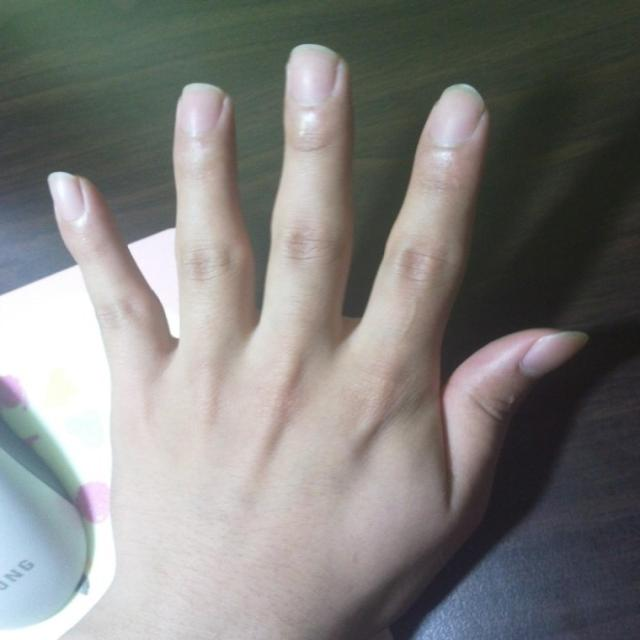Nail: (423, 84, 484, 147), (518, 330, 591, 381), (290, 44, 341, 104), (177, 86, 226, 138), (46, 172, 85, 225)
